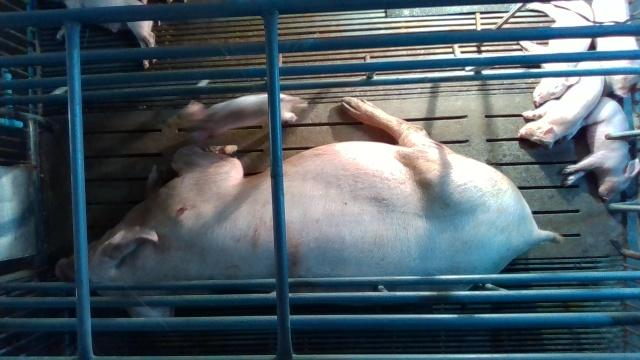piglet: (519, 0, 595, 107), (565, 97, 640, 201), (518, 61, 605, 150), (56, 0, 156, 68), (169, 94, 307, 142), (592, 0, 640, 97)
sow-sleep: (54, 96, 563, 318)
